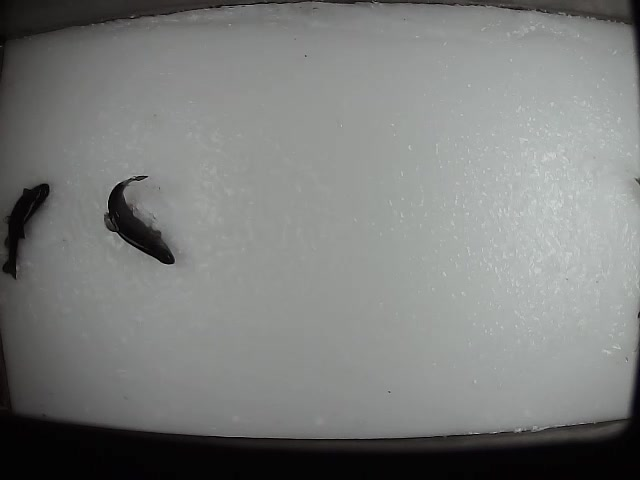Fish: (104, 176, 175, 265), (2, 183, 49, 279)
